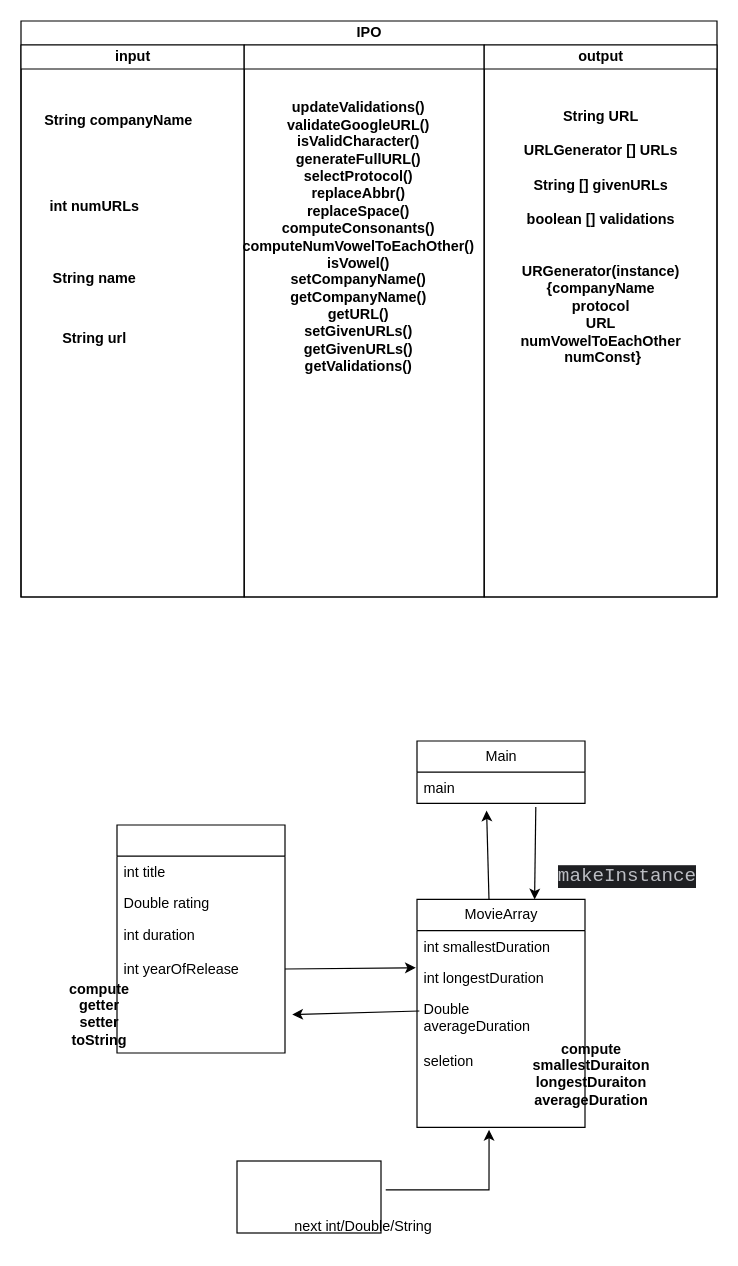
This 738x1266 diagram has some shape labels left out. Here are the shapes that lost their labels. From the top down, the box of each, then its label:
(243, 44, 484, 597): process
(116, 824, 285, 1053): Movie
(236, 1160, 381, 1233): Scanner
